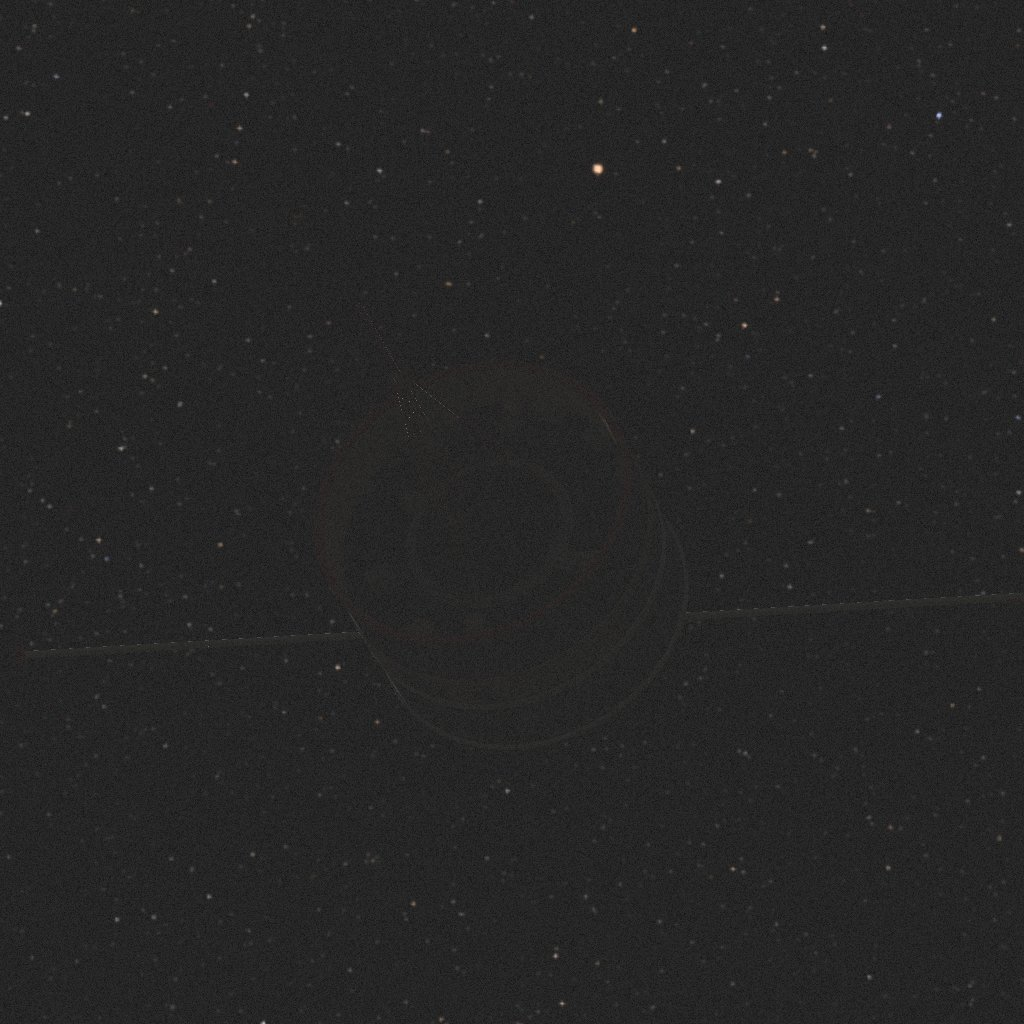double_star: (12, 303, 1024, 750)
